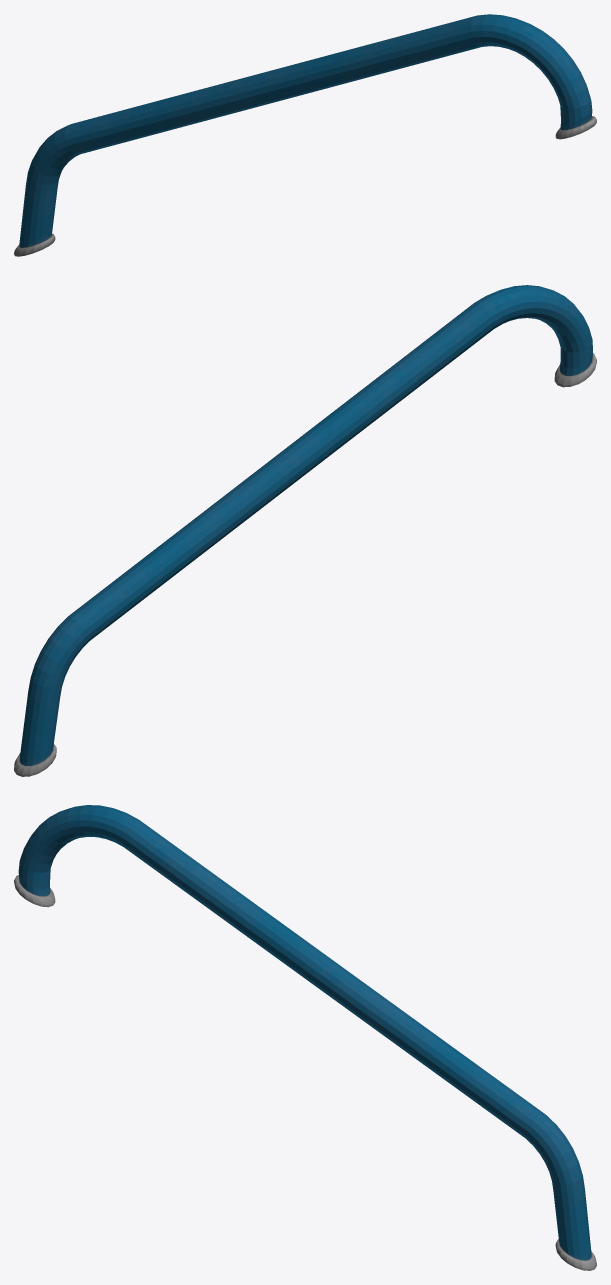
File: SM_074_Guardrail_01_2.fbx
3 renders of one model, top to bottom at view 1: azimuth 90°, elevation 25°; view 2: azimuth 150°, elevation 25°; view 3: azimuth 270°, elevation 25°, orthographic. The views are drawn at different scales.
Parts seen in each view (by area): view 1: SM_074_Guardrail_01_2; view 2: SM_074_Guardrail_01_2; view 3: SM_074_Guardrail_01_2.
Part boxes in pixels (<box>): SM_074_Guardrail_01_2: <box>14,14,596,256</box>; SM_074_Guardrail_01_2: <box>14,285,596,776</box>; SM_074_Guardrail_01_2: <box>14,805,596,1270</box>.
Size of the model in its own units: 59.63 by 105 by 69.15.
1 material, 1 textured.
